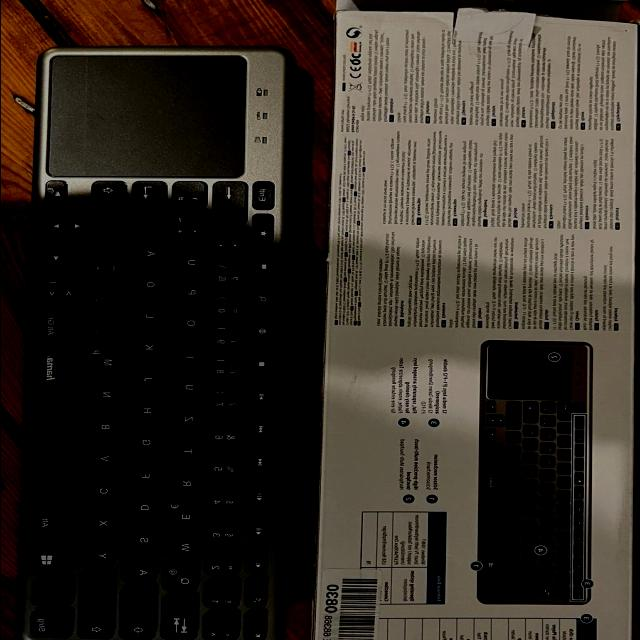0: (213, 293, 249, 321)
1: (205, 582, 241, 610)
2: (207, 549, 242, 577)
3: (207, 516, 243, 544)
4: (208, 483, 244, 511)
5: (208, 451, 244, 479)
6: (209, 419, 245, 447)
7: (211, 387, 247, 415)
8: (211, 355, 248, 383)
9: (213, 324, 249, 352)
a: (123, 556, 160, 584)
accent: (215, 230, 249, 258)
ae: (132, 237, 168, 265)
alt-left: (34, 505, 78, 542)
altgr-right: (40, 310, 84, 346)
b: (85, 410, 123, 439)
c: (84, 474, 120, 503)
caret: (205, 615, 241, 640)
comma: (89, 315, 126, 343)
d: (124, 491, 162, 519)
del: (214, 183, 250, 226)
e: (165, 500, 202, 528)
enter: (133, 181, 170, 232)
f: (125, 459, 162, 487)
g: (127, 427, 163, 455)
h: (128, 395, 165, 423)
hash: (174, 182, 209, 210)
i: (171, 340, 208, 368)
j: (129, 363, 167, 391)
k: (130, 332, 167, 360)
keyboard: (18, 44, 296, 640)
l: (132, 300, 168, 327)
less: (42, 279, 86, 307)
m: (88, 347, 125, 375)
minus: (91, 253, 127, 281)
n: (87, 379, 124, 407)
o: (172, 308, 208, 336)
oe: (132, 269, 168, 297)
p: (173, 277, 209, 304)
plus: (172, 212, 209, 240)
point: (90, 284, 126, 312)
q: (164, 565, 201, 593)
r: (167, 467, 203, 495)
s: (123, 523, 160, 551)
shift-left: (77, 571, 118, 640)
shift-lock: (121, 588, 159, 640)
shift-right: (90, 181, 129, 248)
space: (34, 351, 82, 501)
ss: (213, 262, 249, 290)
strg-left: (29, 611, 75, 640)
t: (167, 435, 205, 463)
tab: (162, 597, 200, 640)
u: (170, 371, 207, 399)
ue: (173, 246, 209, 274)
v: (85, 442, 122, 471)
w: (165, 532, 201, 560)
x: (83, 506, 119, 534)
y: (80, 539, 118, 567)
z: (166, 401, 204, 429)
